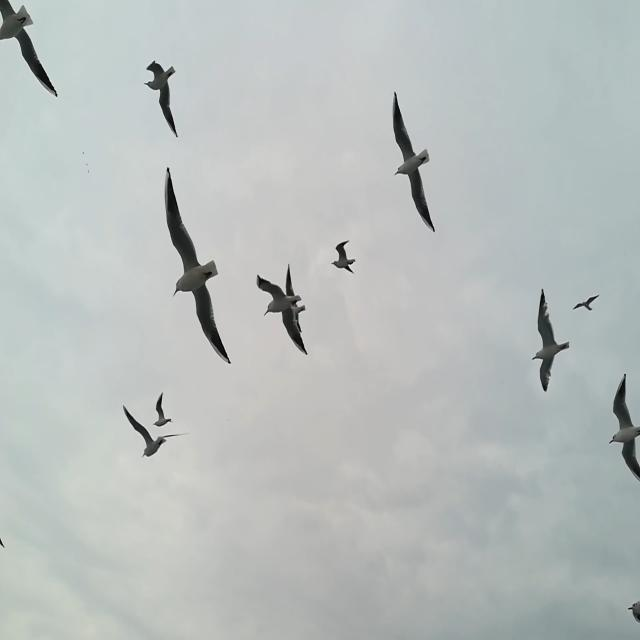bird: (163, 171, 229, 368), (389, 90, 434, 234), (1, 2, 60, 98), (255, 271, 308, 356), (534, 288, 572, 392), (124, 404, 190, 461), (610, 372, 640, 497), (144, 61, 180, 139), (281, 265, 306, 338), (330, 240, 356, 273), (154, 389, 172, 430), (573, 293, 599, 311), (628, 596, 640, 632), (0, 539, 5, 550)
